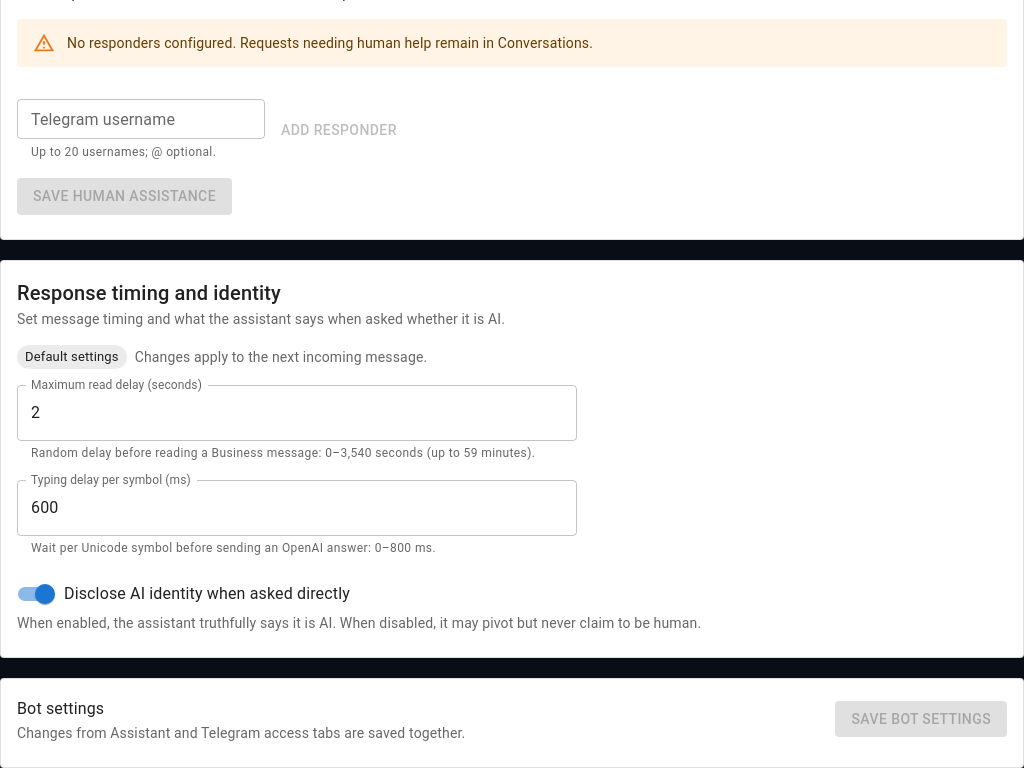
Test: admin bot settings page › loads current values and saves timing changes
This screenshot has width=1024, height=768.
(page scrolled)
Expected: the text "Random delay before reading a Business message: 0–3,540 seconds (up to 59 minutes)." is shown, 31,446 -> 535,460
Expected: the number field labelled "Typing delay per symbol (ms)" holds "600", 17,480 -> 577,536
Replace the text in the number field labelled "Maximum read delay (seconds)" with "3540": coordinates (297, 413) 17,385 -> 577,441
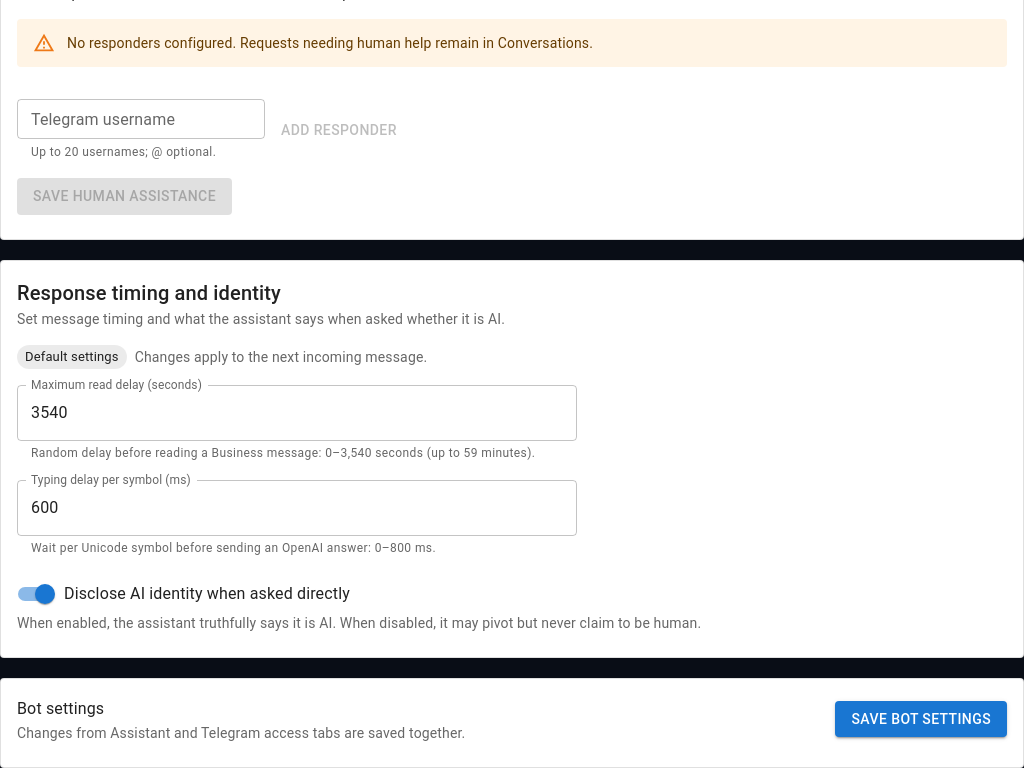
Replace the text in the number field labelled "Typing delay per symbol (ms)" with "350": coordinates (297, 508) 17,480 -> 577,536
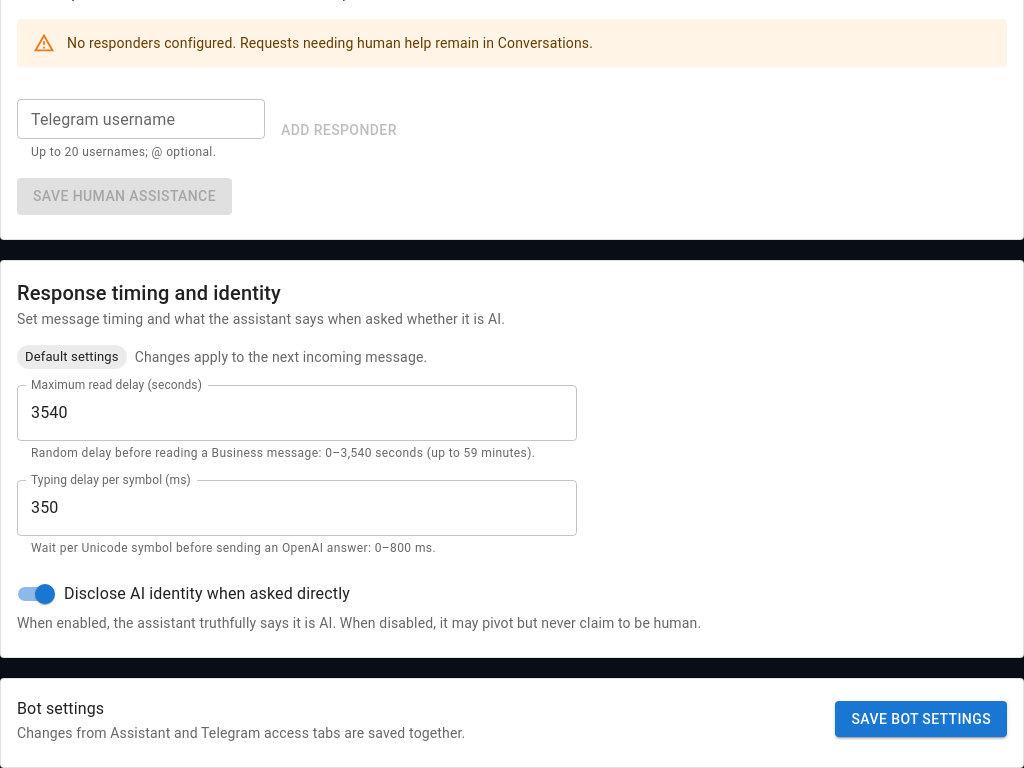
Click the button "Save bot settings": coordinates (921, 719) 836,700 -> 1007,737
(page scrolled)
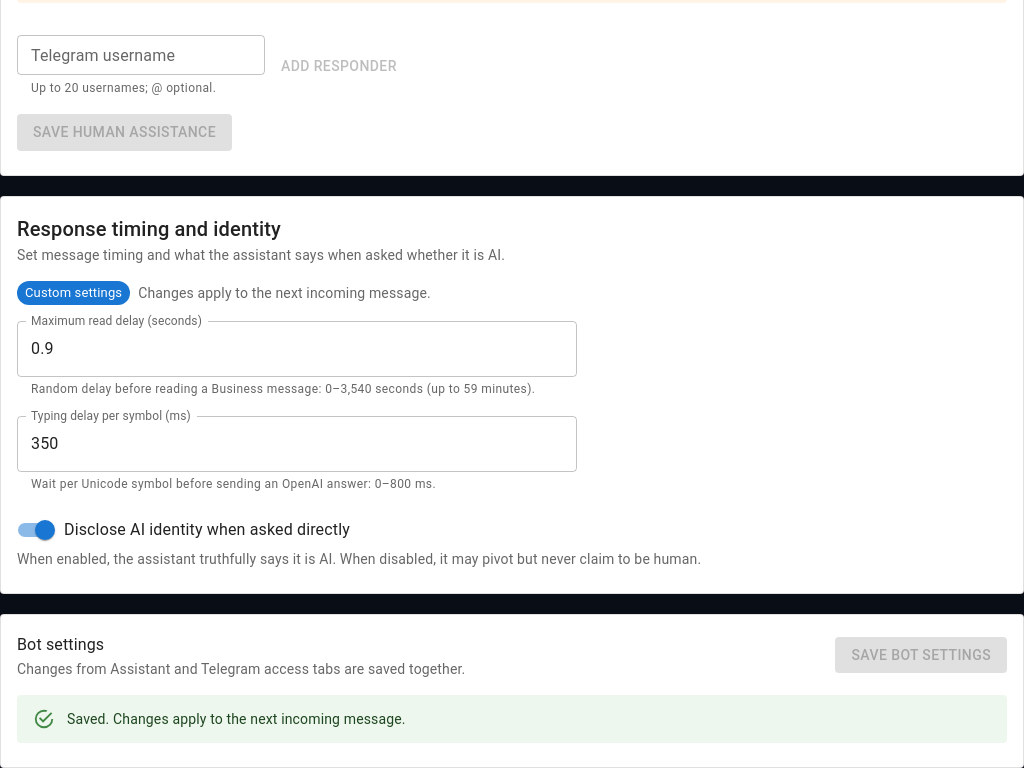
Expected: the switch labelled "Disclose AI identity when asked directly" is checked, 18,520 -> 350,540
Expected: the text "Saved. Changes apply to the next incoming message." is shown, 67,711 -> 406,727
